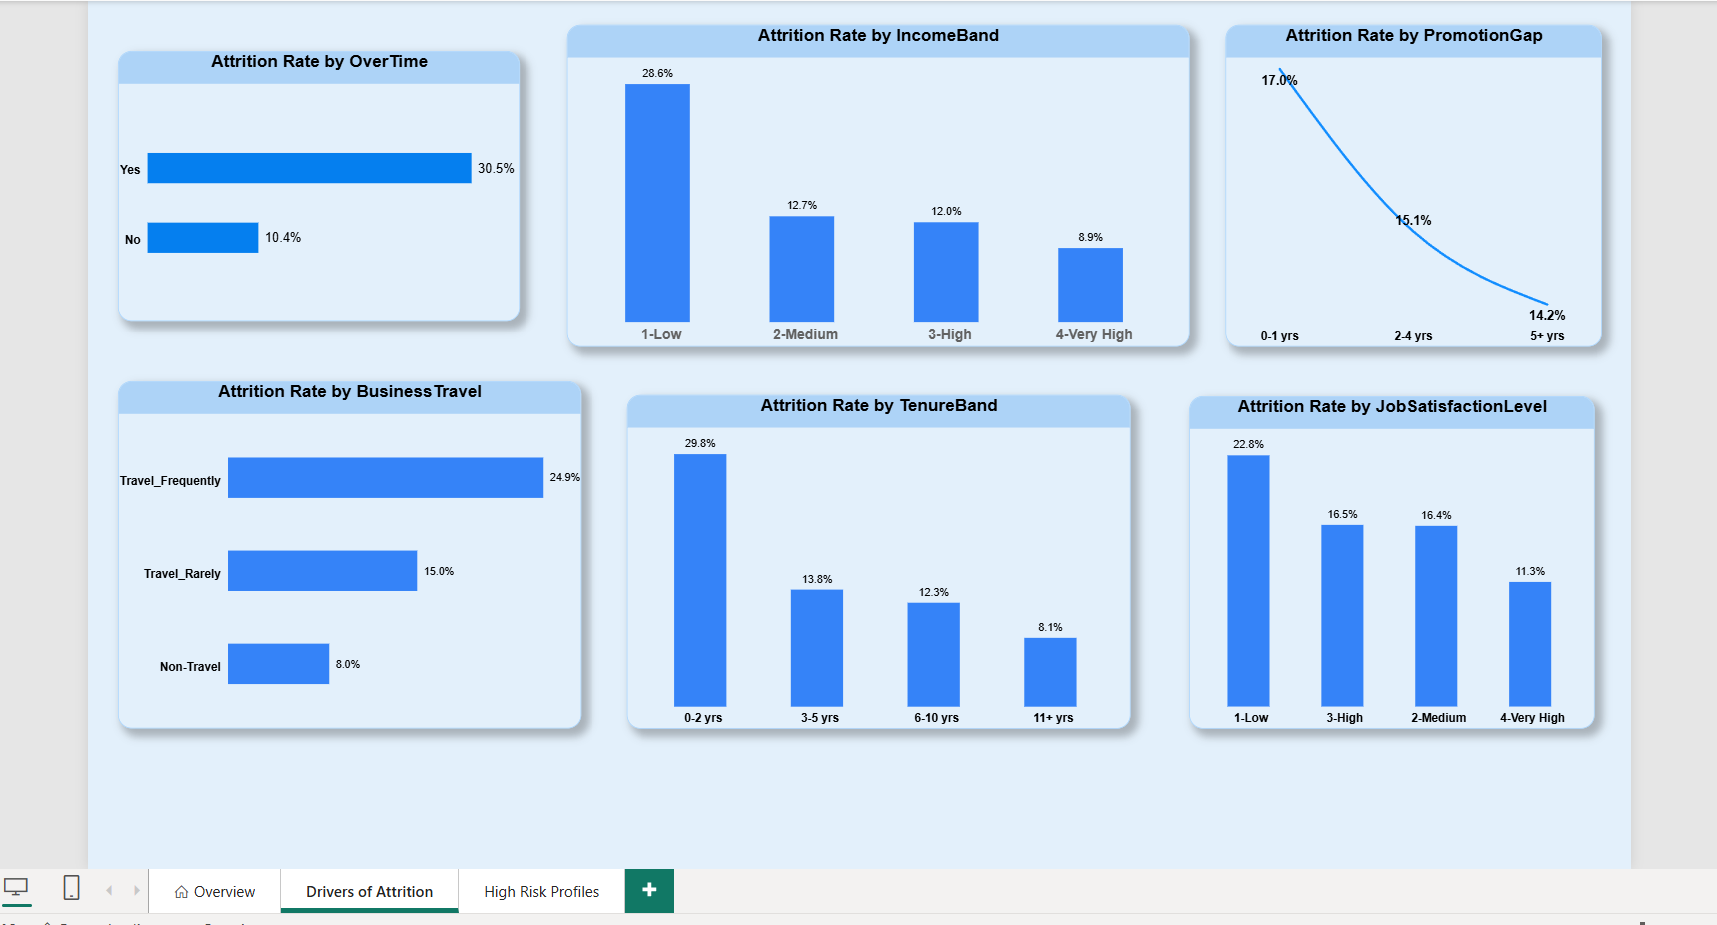

The page's visual inventory and layout, read from the dashboard file:
{"tool":"powerbi","page":{"name":"Drivers of Attrition","canvas":[1920,1080],"ordinal":1},"visuals":[{"type":"clusteredBarChart","fields":{"Y":["Data.Attrition Rate"],"Category":["Data.BusinessTravel"]},"box":[38,472,576,432],"z":0},{"type":"clusteredColumnChart","fields":{"Category":["Data.IncomeBand "],"Y":["Data.Attrition Rate"]},"box":[596,30,774,400],"z":1000},{"type":"clusteredBarChart","fields":{"Category":["Data.OverTime"],"Y":["Data.Attrition Rate"]},"box":[38,62,500,336],"z":2000},{"type":"clusteredColumnChart","fields":{"Category":["Data.TenureBand"],"Y":["Data.Attrition Rate"]},"box":[669.8,490.1,626.2,415.1],"z":3000},{"type":"clusteredColumnChart","fields":{"Y":["Data.Attrition Rate"],"Category":["Data.JobSatisfactionLevel"]},"box":[1369.2,491.9,504.1,413.4],"z":4000},{"type":"lineChart","fields":{"Category":["Data.PromotionGap"],"Y":["Data.Attrition Rate"]},"box":[1414,30,468,400],"z":5000}]}

Visuals, with their boxes on the page's 1920x1080 design canvas (x1, y1, x2, y2). These are canvas units, not pixel positions in the 1717x925 screenshot, which may show the page scaled, cropped or inside an application window:
clusteredBarChart - Data.Attrition Rate x Data.BusinessTravel: bbox(38, 472, 614, 904)
clusteredColumnChart - Data.IncomeBand  x Data.Attrition Rate: bbox(596, 30, 1370, 430)
clusteredBarChart - Data.OverTime x Data.Attrition Rate: bbox(38, 62, 538, 398)
clusteredColumnChart - Data.TenureBand x Data.Attrition Rate: bbox(670, 490, 1296, 905)
clusteredColumnChart - Data.Attrition Rate x Data.JobSatisfactionLevel: bbox(1369, 492, 1873, 905)
lineChart - Data.PromotionGap x Data.Attrition Rate: bbox(1414, 30, 1882, 430)
